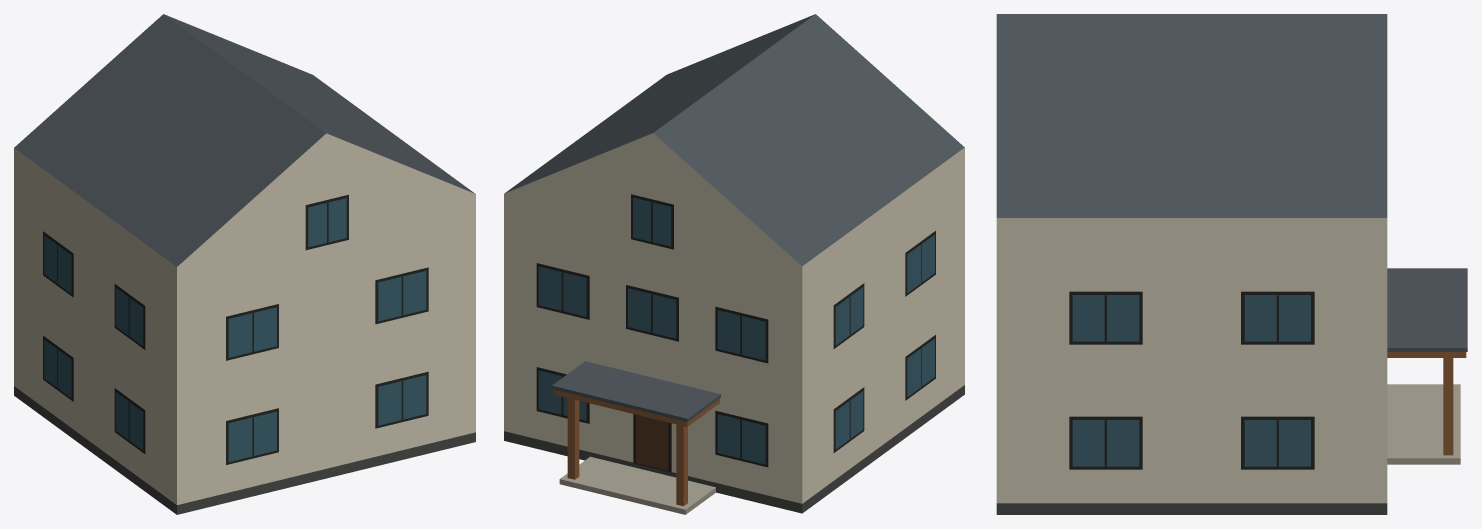
The picture shows the model from 3 angles, left to right: view 1: azimuth 30°, elevation 25°; view 2: azimuth 150°, elevation 25°; view 3: azimuth 270°, elevation 25°; orthographic projection. The views are drawn at different scales.
Bounding box in the file's own units: 9.14 × 9.93 × 10.32.
